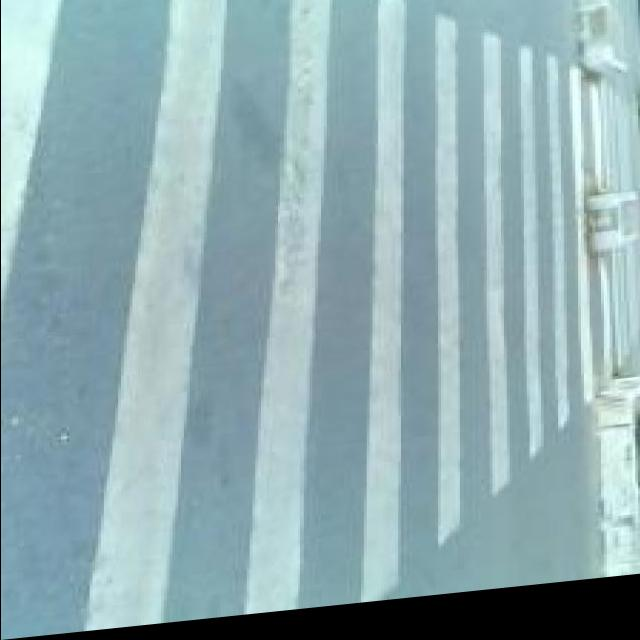zebra: (0, 69, 595, 627)
